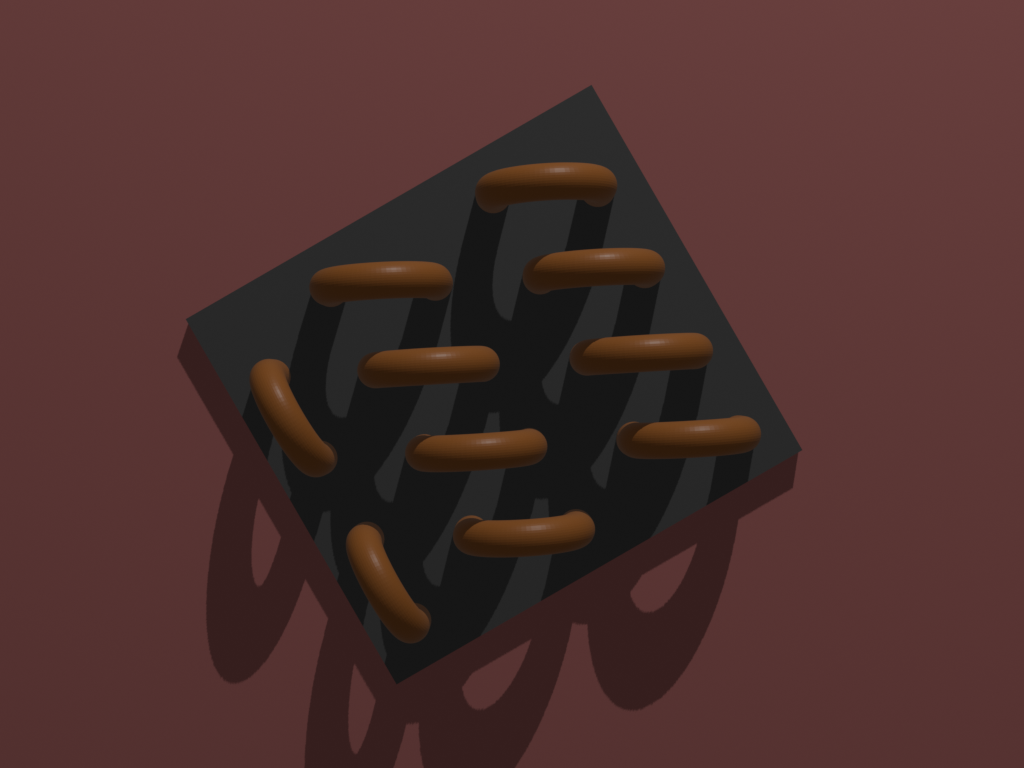return-bend: (314, 497, 459, 670), (219, 332, 364, 504), (443, 494, 609, 574), (397, 412, 563, 492), (610, 400, 776, 480), (518, 227, 684, 307), (465, 145, 631, 225), (300, 240, 465, 320), (559, 316, 724, 396), (347, 331, 513, 410)
